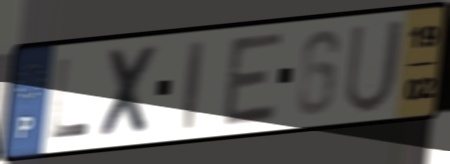6: (294, 27, 342, 118)
E: (220, 28, 287, 130)
I: (181, 36, 206, 134)
L: (49, 55, 93, 142)
U: (341, 16, 407, 117)
X: (95, 42, 162, 141)
